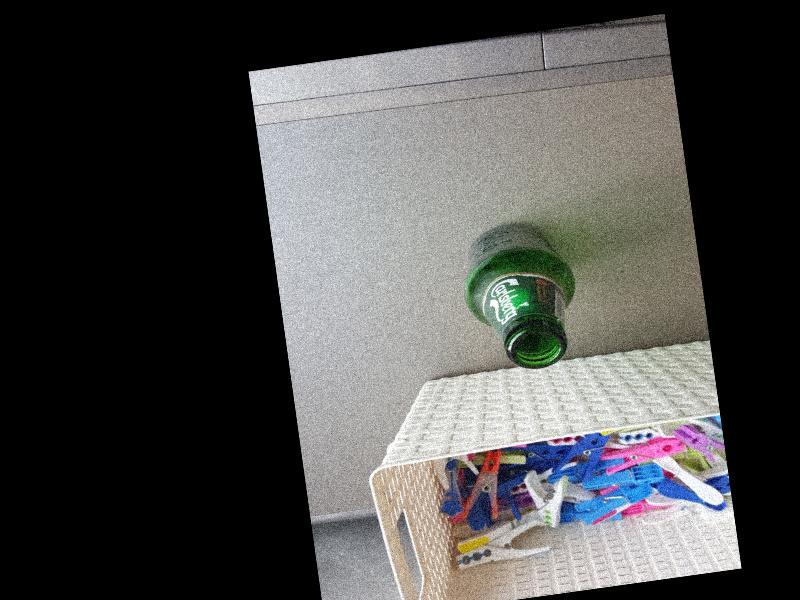Beer: (454, 215, 585, 376)
